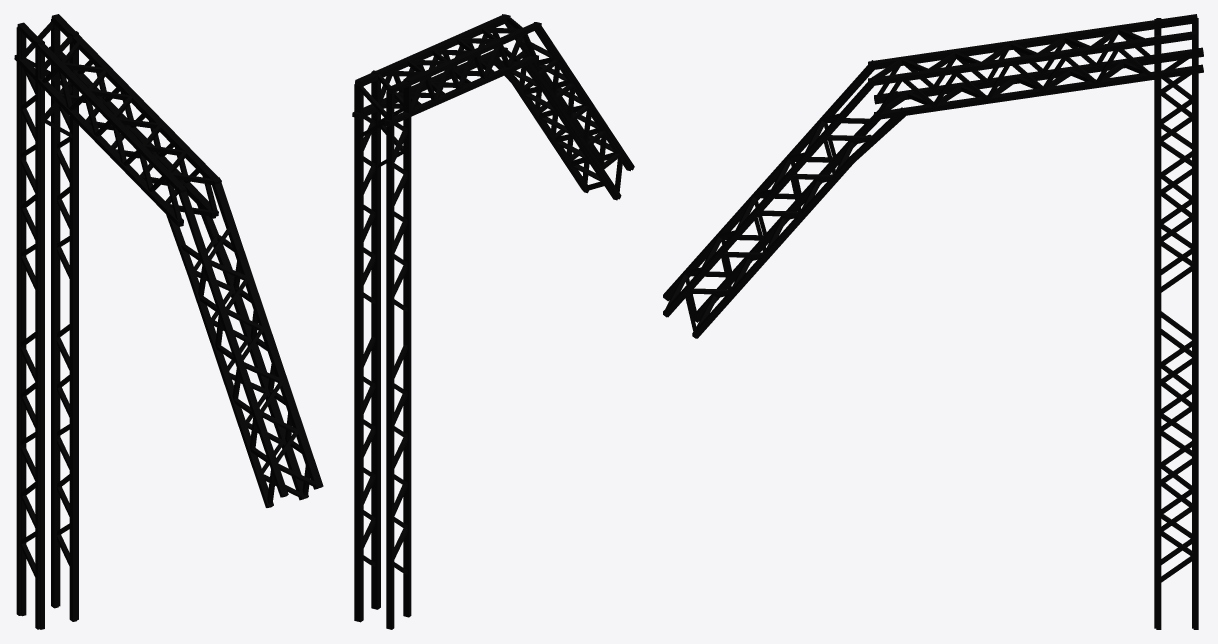
The model's file is crane.FBX.
The picture shows the model from 3 angles, left to right: view 1: azimuth 30°, elevation 25°; view 2: azimuth 150°, elevation 25°; view 3: azimuth 270°, elevation 25°; orthographic projection. The views are drawn at different scales.
Visible parts, largest first — view 1: Box002; view 2: Box002; view 3: Box002.
Boxes of the visible parts, x1,y1,x2,y2 form: Box002: [14, 14, 323, 629]; Box002: [352, 14, 634, 629]; Box002: [663, 14, 1203, 629].
Bounding box in the file's own units: 14.37 × 197 × 162.
